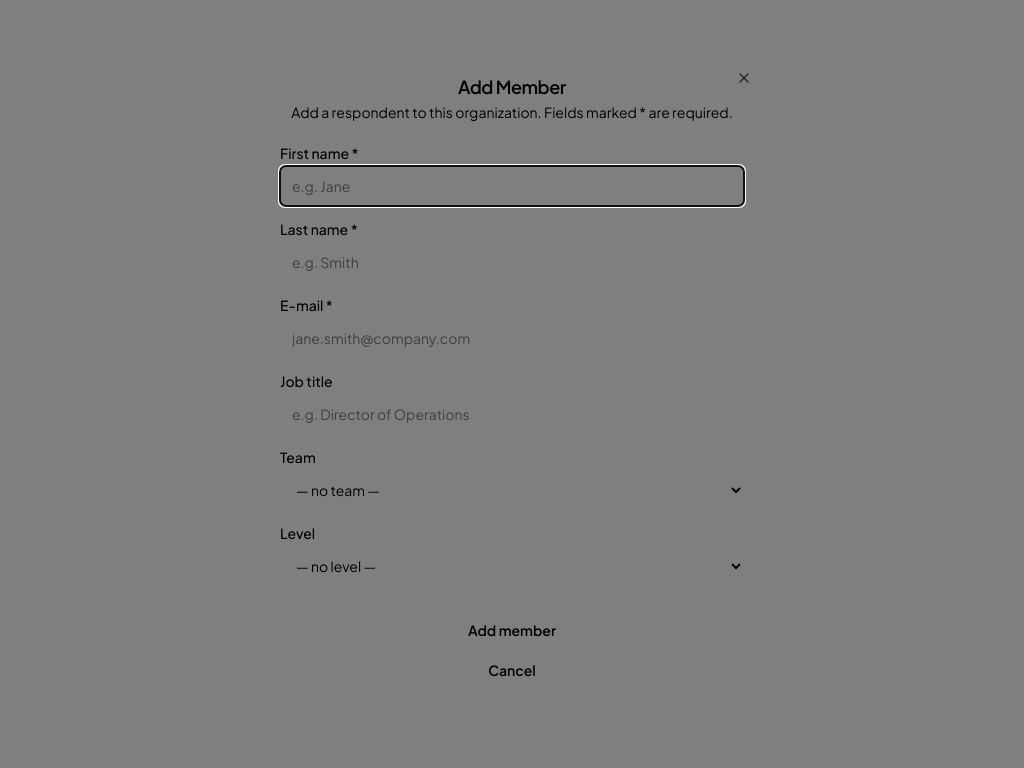
Scenario: AddMemberModal › warns when a leadership team member has no team while the member portal is enabled
The image size is (1024, 768).
Select "Leadership team member" in the dropdown with test id "select-level". click: (512, 566)
box: x1=280 y1=546 x2=744 y2=586
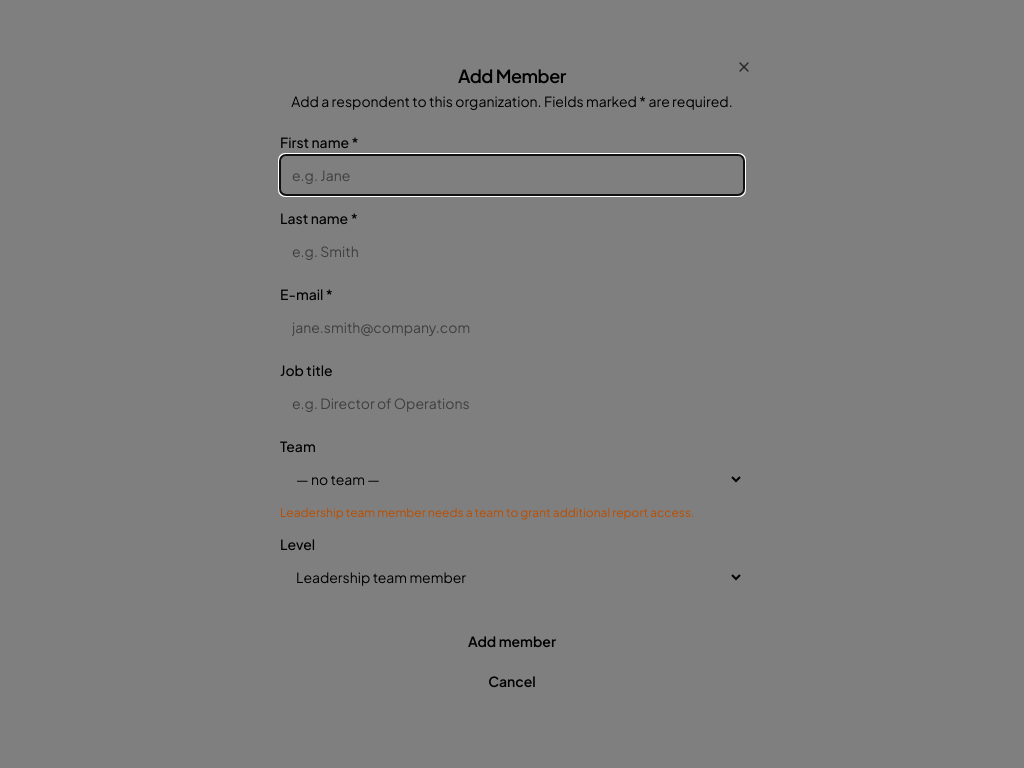
Expected: the text "Leadership team member needs a team to grant additional report access." is shown, x1=280 y1=505 x2=744 y2=521
Select "Engineering" in the dropdown with test id "select-team". click: (512, 479)
box: x1=280 y1=459 x2=744 y2=499
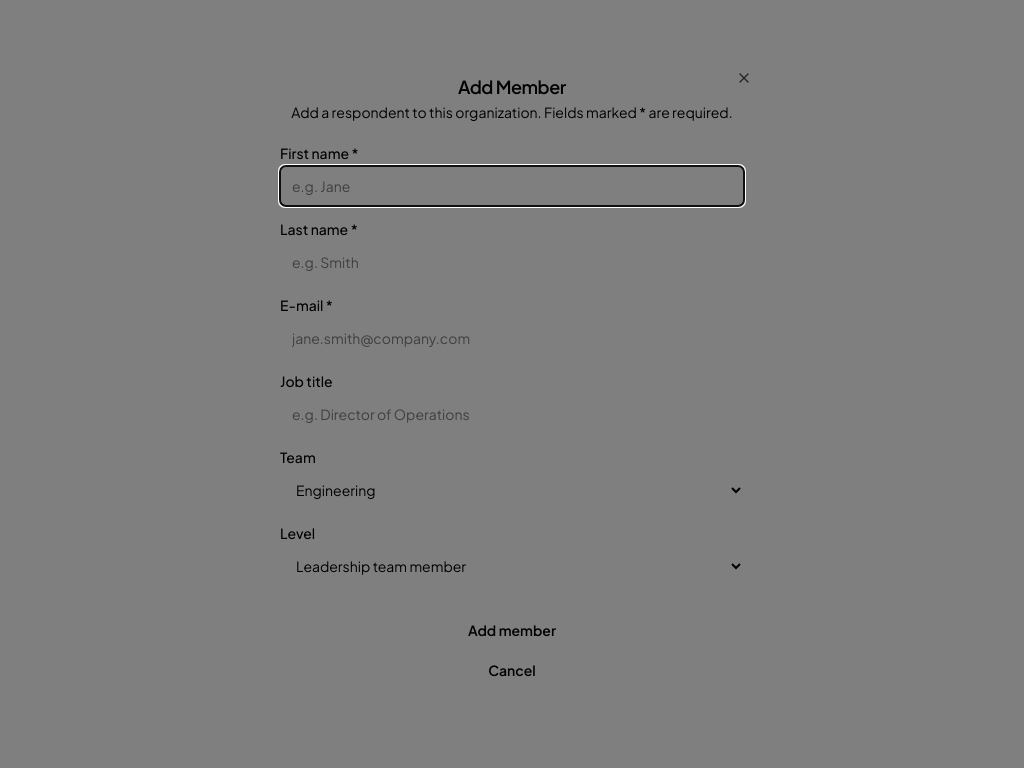
Expected: the text "Leadership team member needs a team to grant additional report access." is gone
